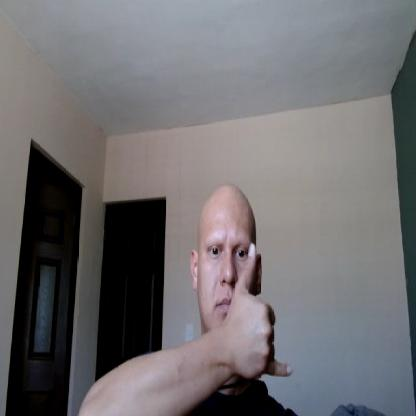Y: (228, 240, 294, 383)
